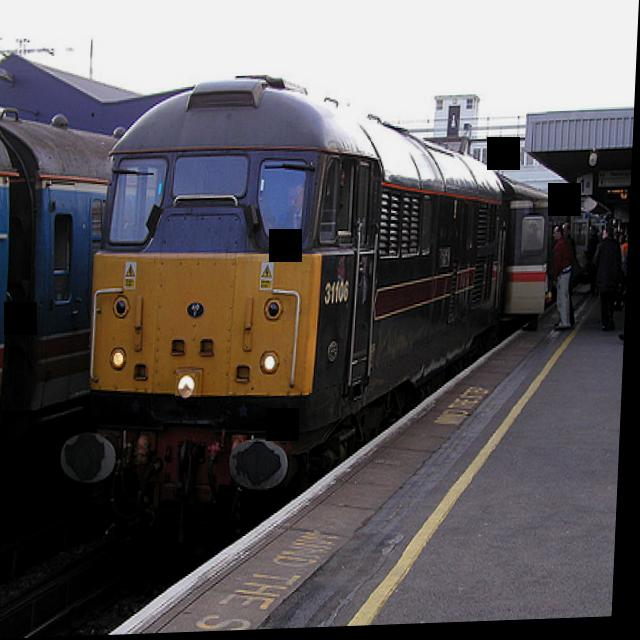locomotive: (60, 60, 517, 562)
